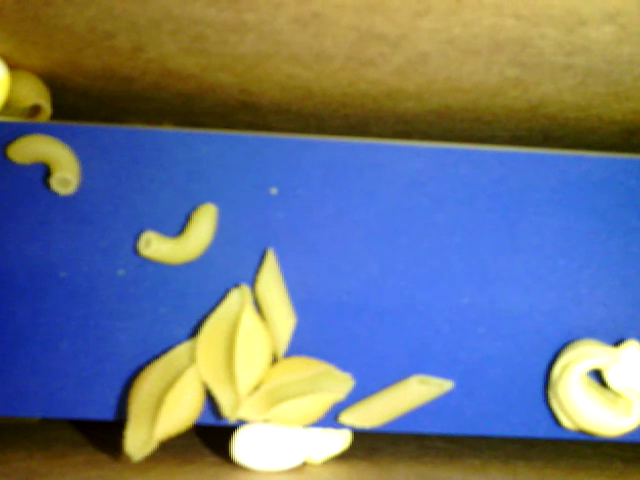elbow: (135, 201, 218, 267), (8, 136, 81, 198)
penne: (334, 372, 455, 428), (251, 247, 297, 361)
shell: (188, 284, 273, 422), (120, 333, 205, 464), (232, 355, 355, 423), (3, 70, 55, 127)
tortellini: (545, 333, 636, 440)
